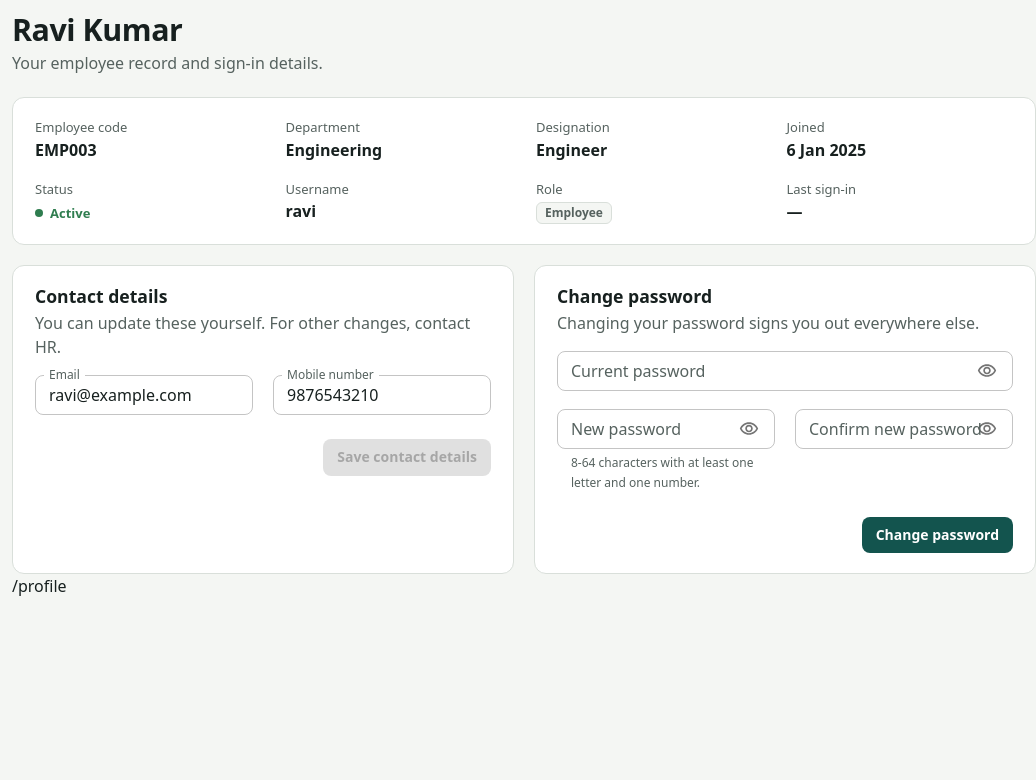
ProfilePage › shows a wrong current password next to the field
expect the button "Change password" is shown: met, box 862,517 -> 1013,553
In the password field labelled "Current password": (760, 371) 557,351 -> 964,391, type "Wrong1234"
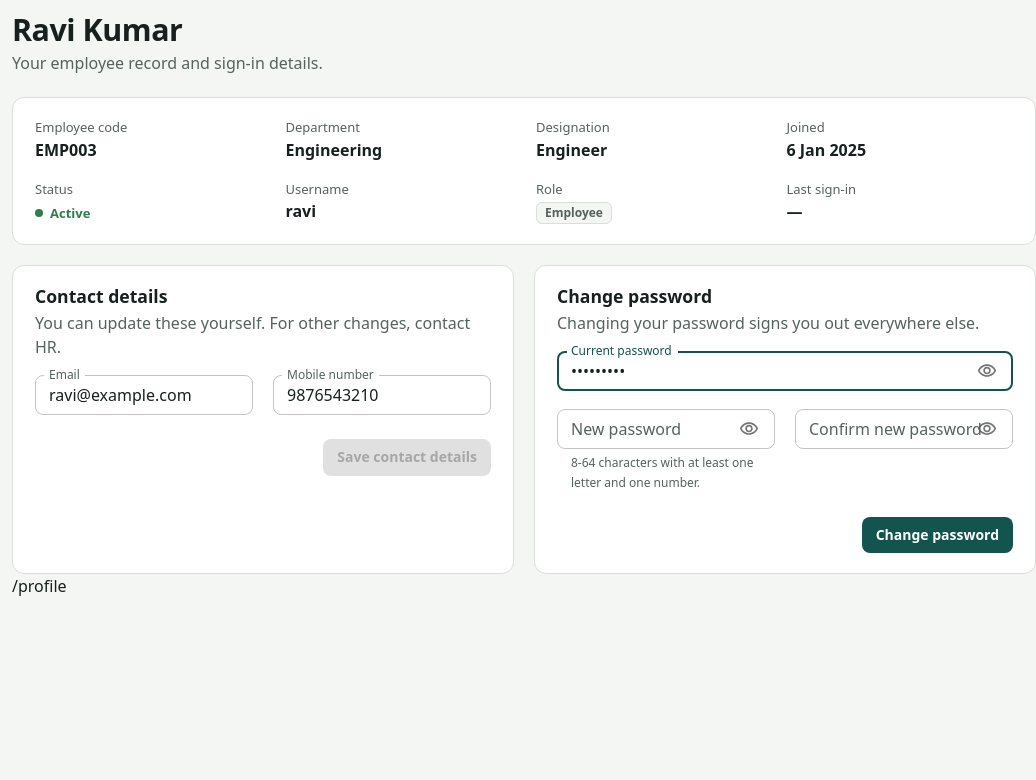
In the password field labelled "New password": (642, 429) 557,409 -> 726,449, type "NewPass123"
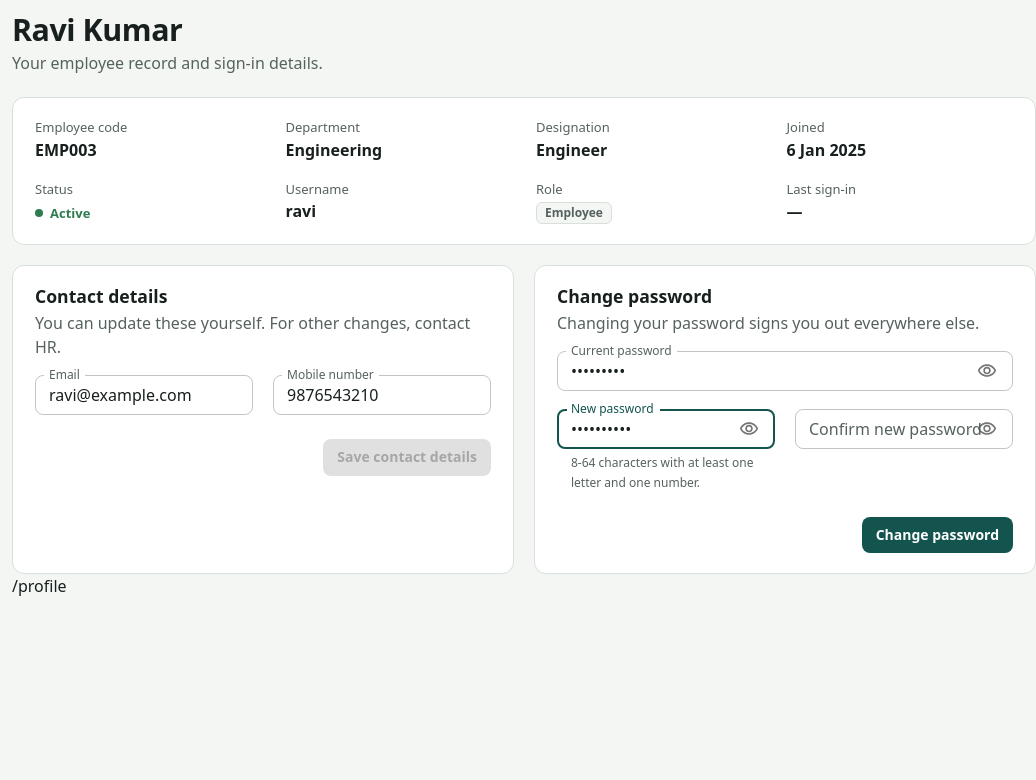
In the password field labelled "Confirm new password": (880, 429) 795,409 -> 964,449, type "NewPass123"
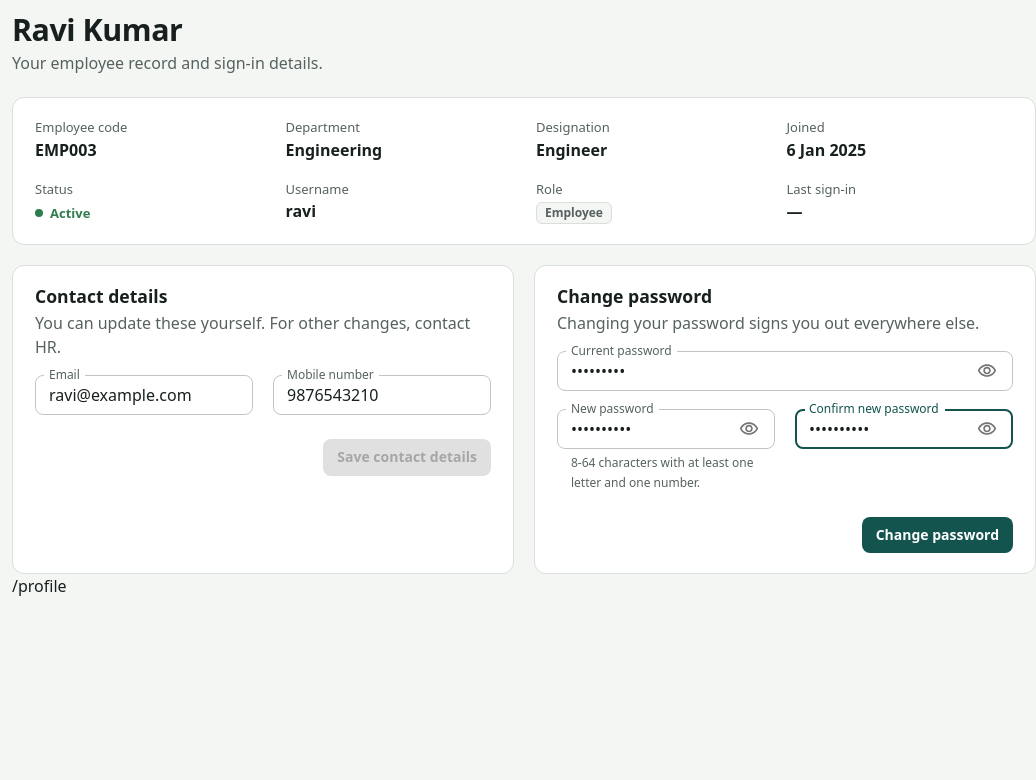
Click the button "Change password": (937, 535) 862,517 -> 1013,553
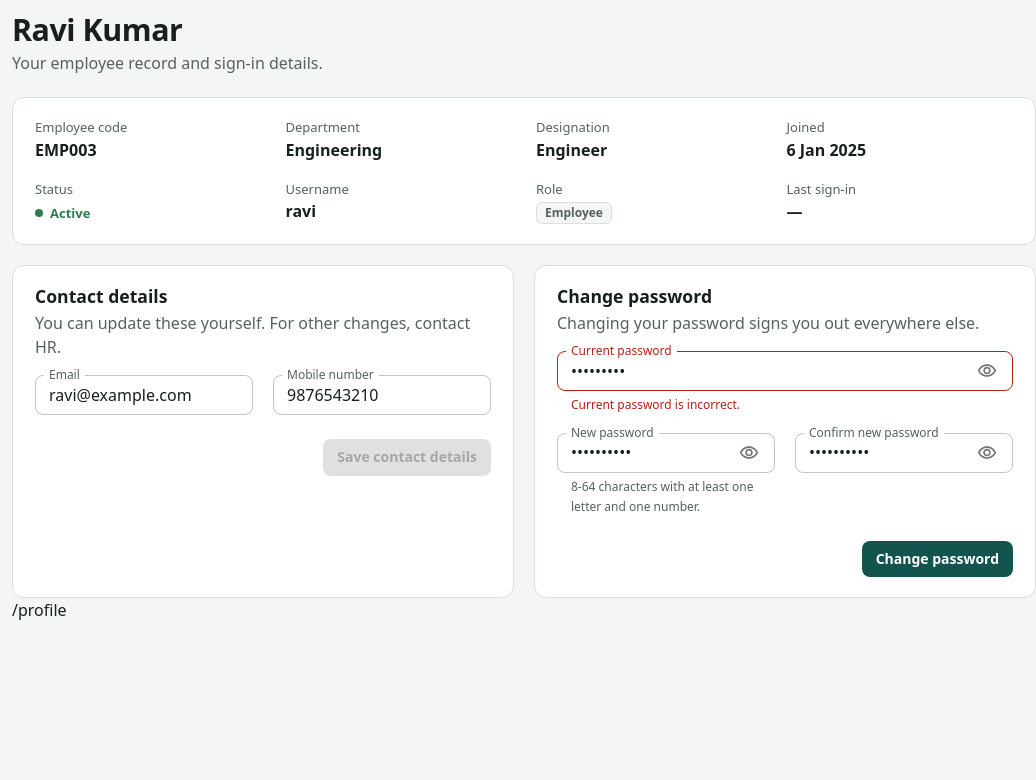
expect the text "Current password is incorrect." is shown: met, box 571,396 -> 740,413
